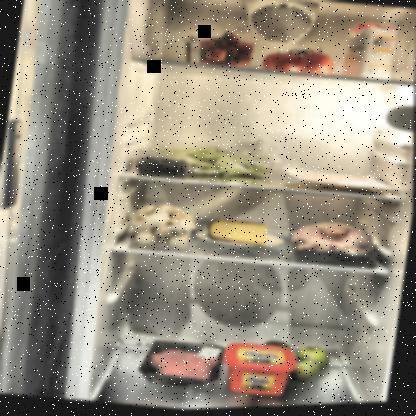apple: (262, 339, 334, 385)
blueberries: (136, 148, 191, 181)
butter: (216, 337, 303, 408)
cheese: (205, 216, 273, 252)
chicken: (287, 218, 383, 273)
green_beans: (145, 128, 284, 188)
ground_beef: (146, 338, 217, 391)
mushrooms: (131, 201, 197, 254)
strawberries: (175, 26, 261, 75)
tomato: (261, 43, 340, 80)
